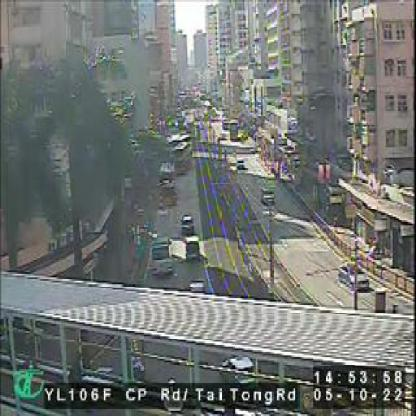Car: (338, 264, 370, 290), (184, 236, 200, 258), (260, 187, 274, 206), (181, 215, 192, 234), (235, 158, 244, 170)
Minibus: (152, 236, 170, 277)
